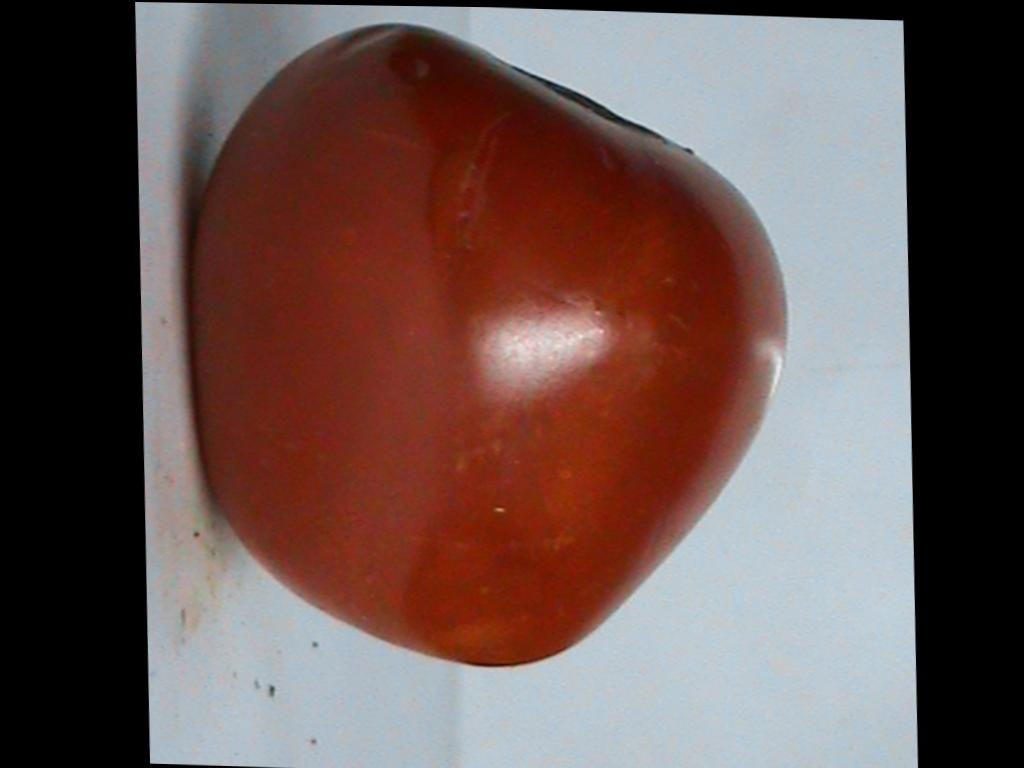surface_damage: (452, 122, 499, 217)
tomato: (196, 23, 786, 663)
